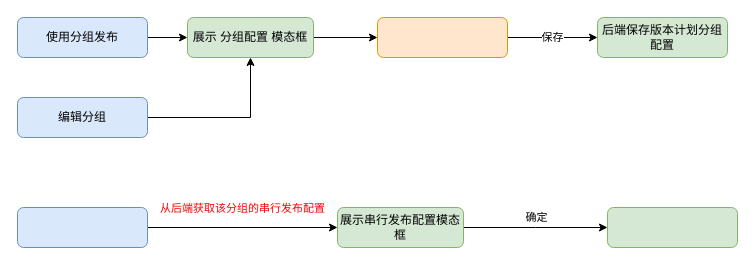
Some shapes in this 755 by 265 pixel diagram are drawn without their labels. Each missing label, with the centre of its shape:
"开始串行发布" goes at point (82, 227).
"当前分组开始串行发布" goes at point (672, 227).
"配置分组发布" goes at point (442, 37).
